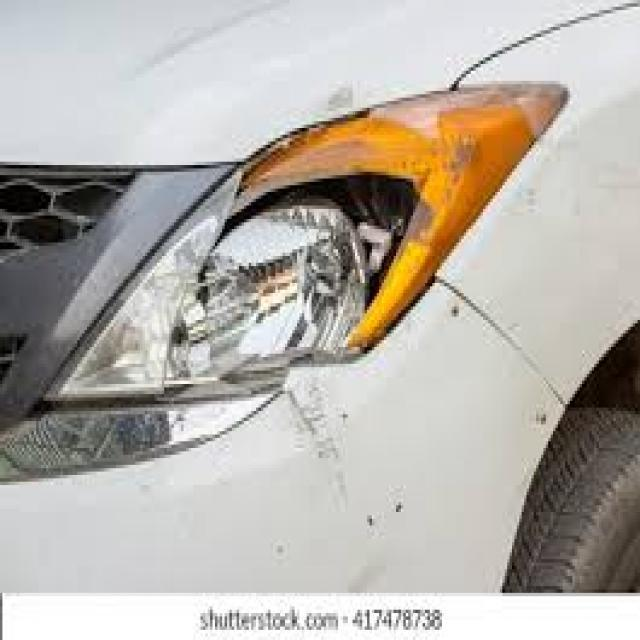damaged-head-light: (42, 90, 566, 392)
